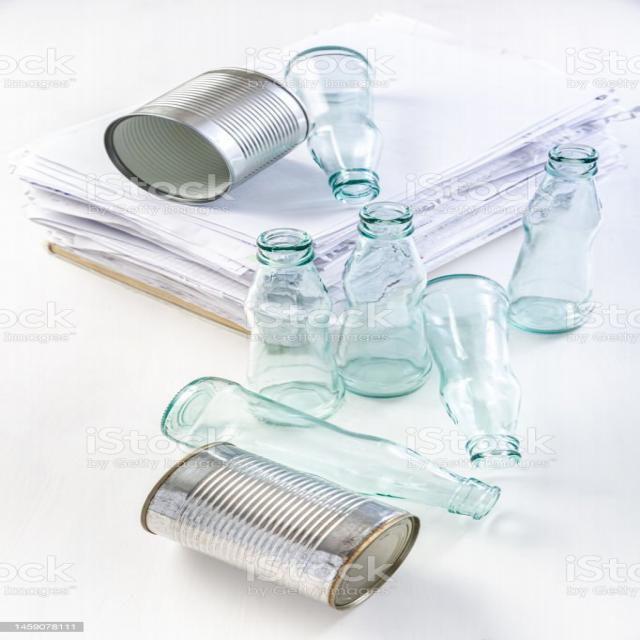dry: (154, 470, 376, 634), (30, 165, 238, 324), (110, 68, 314, 206)
